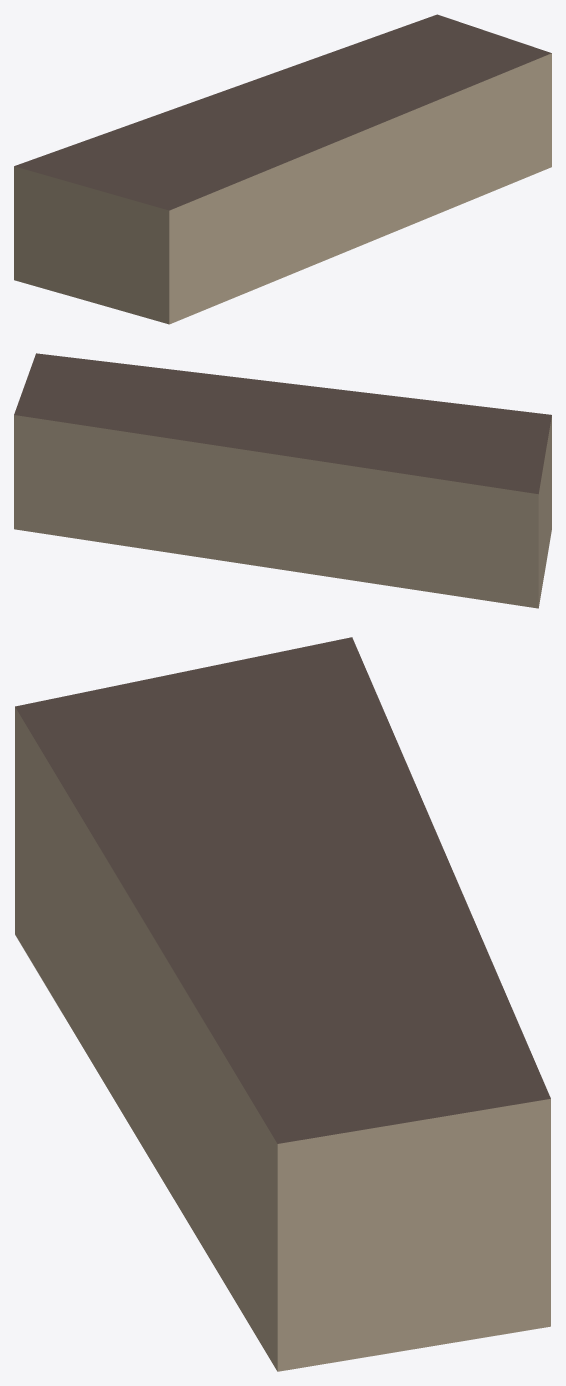
The picture shows the model from 3 angles, top to bottom: view 1: azimuth 30°, elevation 25°; view 2: azimuth 150°, elevation 25°; view 3: azimuth 270°, elevation 25°; orthographic projection. The views are drawn at different scales.
Parts seen in each view (by area): view 1: HP-w859457430; view 2: HP-w859457430; view 3: HP-w859457430.
Part boxes in pixels (x1,y1,x2,y2): HP-w859457430: [14, 14, 551, 324]; HP-w859457430: [14, 353, 551, 608]; HP-w859457430: [15, 637, 550, 1371].
Size of the model in its own units: 42.94 by 9 by 19.19.
